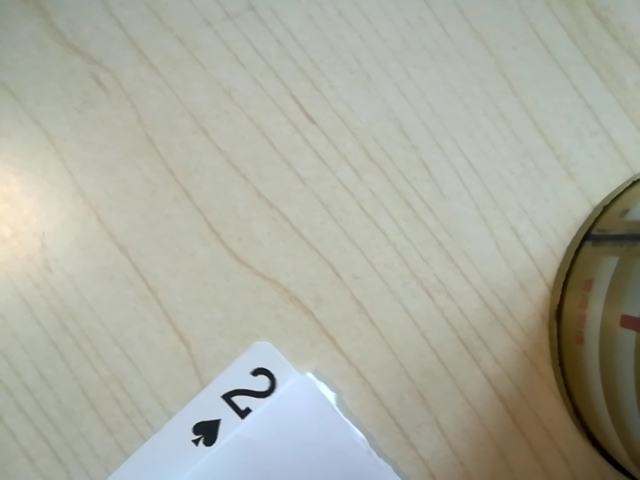ht 2: (173, 360, 295, 458)
